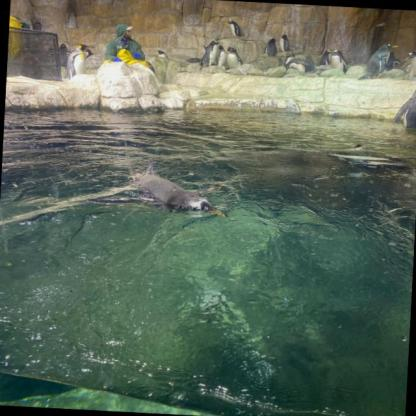penguin: (86, 154, 231, 218), (355, 42, 398, 83), (392, 80, 416, 135), (66, 44, 98, 82), (200, 39, 224, 69), (48, 43, 75, 67), (326, 49, 348, 74), (226, 47, 246, 72), (284, 58, 313, 74), (404, 51, 415, 82), (224, 20, 242, 37), (264, 38, 279, 57), (278, 32, 289, 52), (156, 50, 168, 60)
